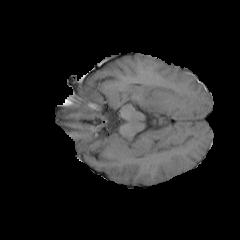glioma: (139, 80, 175, 110)
